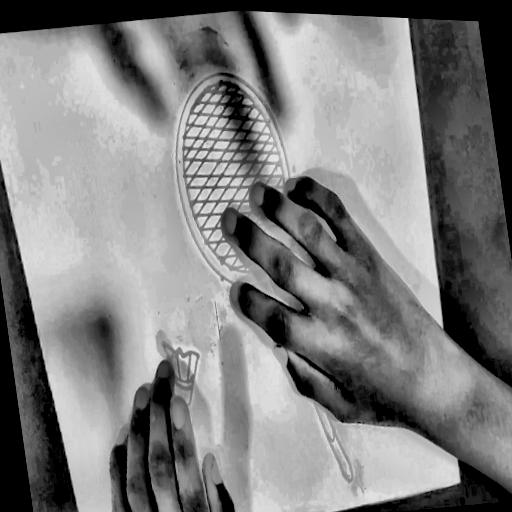badminton: (95, 52, 375, 512)
bottom_left: (455, 473, 465, 489)
